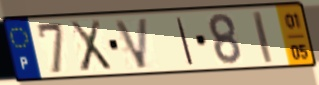7: (34, 22, 68, 76)
8: (207, 12, 244, 67)
I: (250, 9, 275, 66), (174, 16, 196, 67)
V: (112, 16, 151, 71)
X: (67, 18, 114, 75)
